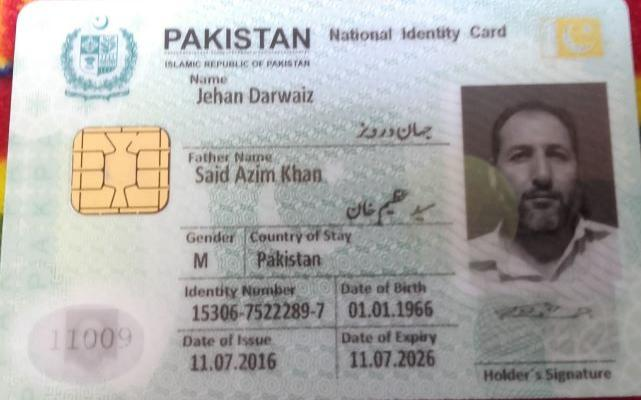fname: (194, 162, 326, 186)
name: (192, 83, 319, 109)
number: (187, 300, 328, 326)
